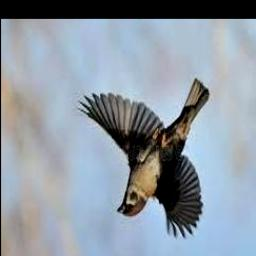Sparrow: (77, 78, 209, 241)
